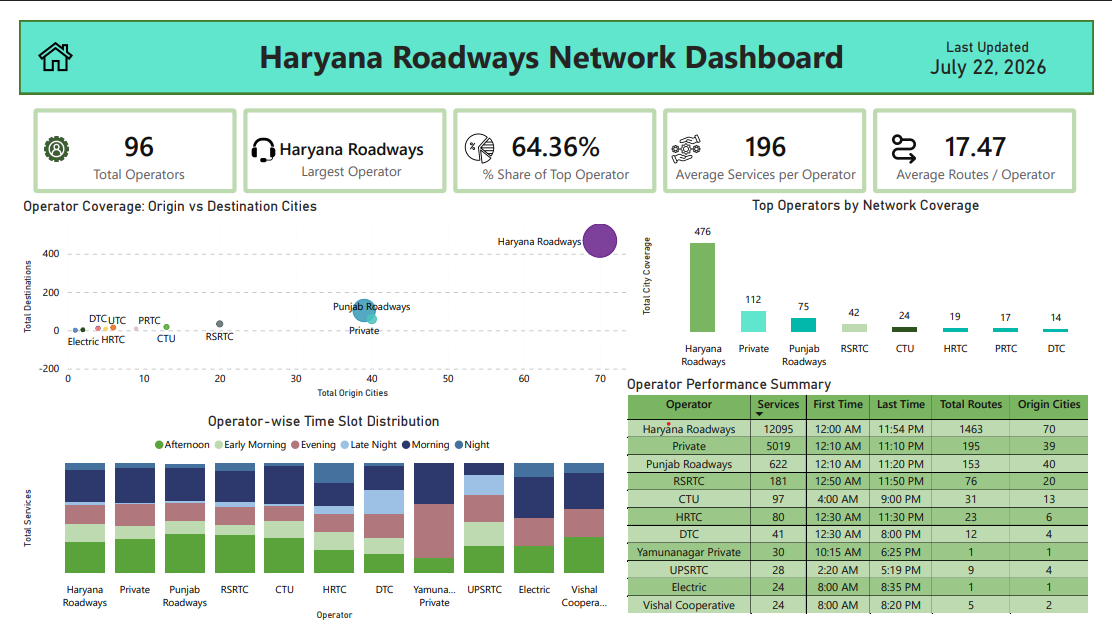

The page's visual inventory and layout, read from the dashboard file:
{"tool":"powerbi","page":{"name":"Operator Analysis","canvas":[1280,720],"ordinal":3},"visuals":[{"type":"shape","title":"Haryana Roadways Network Dashboard","box":[0,0,1280.5,87.8],"z":0},{"type":"textbox","box":[281,11.7,715.6,62.9],"z":1000},{"type":"cardVisual","fields":{"Data":["final.Operators","Distinct Operator.Top Operator","Distinct Operator.% Share of Top Operator","Distinct Operator.Average Services per Operator","final.Average Routes / Operator"]},"box":[0,87.6,1280,135.9],"z":2000},{"type":"image","box":[11.7,138.7,64.4,29.3],"z":3000},{"type":"image","box":[510.7,134.6,73.2,36.6],"z":4000},{"type":"image","box":[1014.1,135,79,36.6],"z":5000},{"type":"image","box":[749.3,136.1,90.7,35.1],"z":6000},{"type":"image","box":[275.1,122.9,32.2,62.9],"z":7000},{"type":"card","fields":{"Values":["final.Last Updated"]},"box":[1053.7,21.4,202,67.3],"z":8000},{"type":"textbox","box":[1099,17,118.5,36.6],"z":9000},{"type":"scatterChart","title":"Operator Coverage: Origin vs Destination Cities","fields":{"Category":["Distinct Operator.Operator"],"X":["final.Total Origin Cities"],"Y":["final.Total Destinations"],"Size":["Distinct Operator.Services"]},"box":[0,210.7,749.3,244.4],"z":13000},{"type":"columnChart","title":"Top Operators by Network Coverage","fields":{"Category":["Distinct Operator.Operator"],"Y":["final.Total City Coverage"]},"box":[726.4,210.3,553.9,211.6],"z":14000},{"type":"hundredPercentStackedColumnChart","title":"Operator-wise Time Slot Distribution","fields":{"Y":["final.Total Services"],"Category":["Distinct Operator.Operator"],"Series":["final.Time Category"]},"box":[0,467.2,726.4,252.3],"z":15000},{"type":"tableEx","title":"Operator Performance Summary","fields":{"Values":["Distinct Operator.Operator","Distinct Operator.Services","final.First Time","final.Last Time","final.Total Routes","final.Total Origin Cities"]},"box":[718.7,422.8,561.3,297.1],"z":16000},{"type":"image","title":"sliceropen","box":[20.5,23.4,45.4,39.5],"z":17000}]}

Visuals, with their boxes in screenshot pixels (x1, y1, x2, y2), scaled from the page's 1280x720 canvas onto the 1112x642 screenshot:
"Haryana Roadways Network Dashboard" shape: (left=0, top=0, right=1111, bottom=78)
textbox: (left=244, top=10, right=866, bottom=67)
cardVisual - final.Operators x Distinct Operator.Top Operator: (left=0, top=78, right=1111, bottom=199)
image: (left=10, top=124, right=66, bottom=150)
image: (left=444, top=120, right=507, bottom=153)
image: (left=881, top=120, right=950, bottom=153)
image: (left=651, top=121, right=730, bottom=153)
image: (left=239, top=110, right=267, bottom=166)
card - final.Last Updated: (left=915, top=19, right=1091, bottom=79)
textbox: (left=955, top=15, right=1058, bottom=48)
"Operator Coverage: Origin vs Destination Cities" scatterChart: (left=0, top=188, right=651, bottom=406)
"Top Operators by Network Coverage" columnChart: (left=631, top=188, right=1111, bottom=376)
"Operator-wise Time Slot Distribution" hundredPercentStackedColumnChart: (left=0, top=417, right=631, bottom=641)
"Operator Performance Summary" tableEx: (left=624, top=377, right=1111, bottom=641)
"sliceropen" image: (left=18, top=21, right=57, bottom=56)
